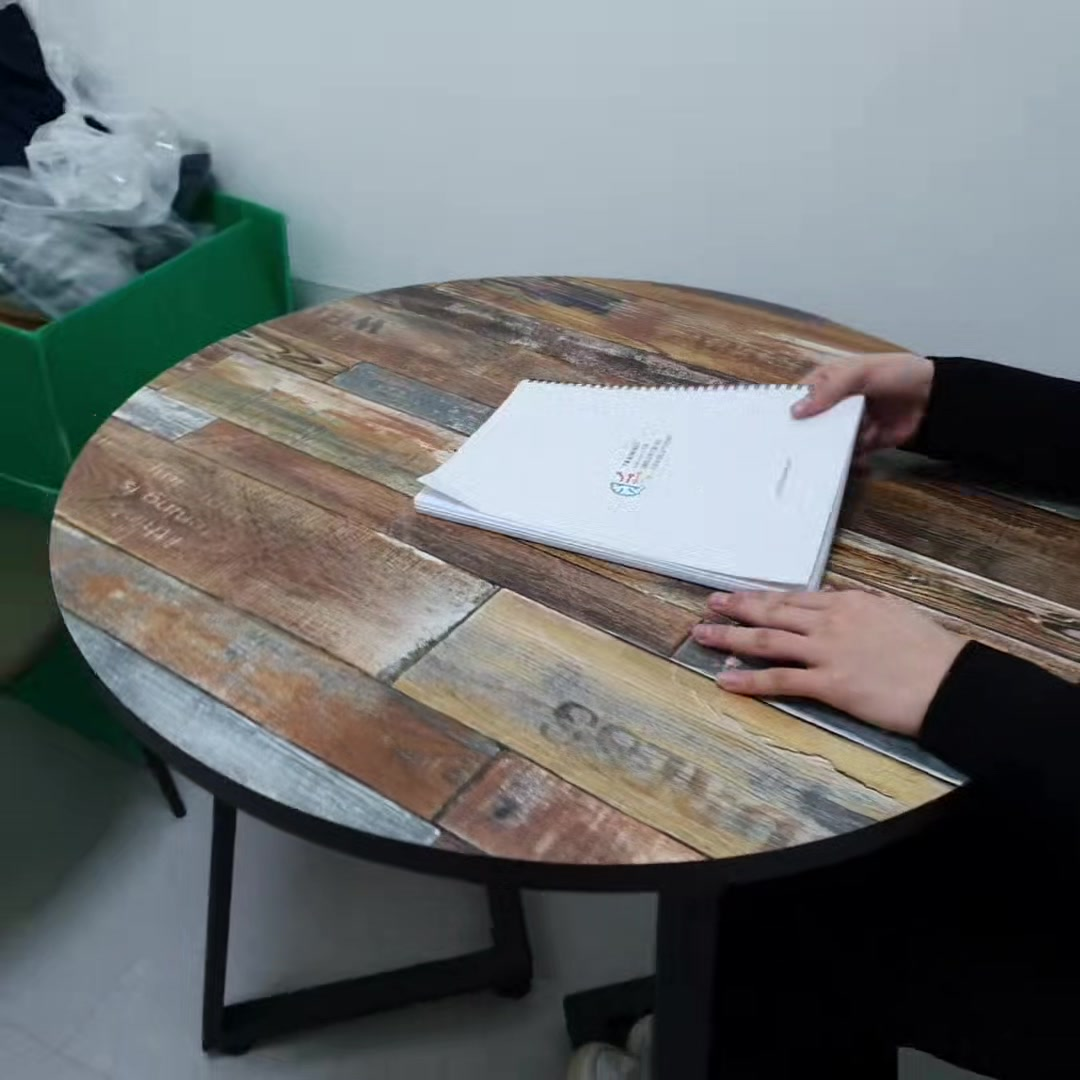book: (407, 381, 881, 594)
